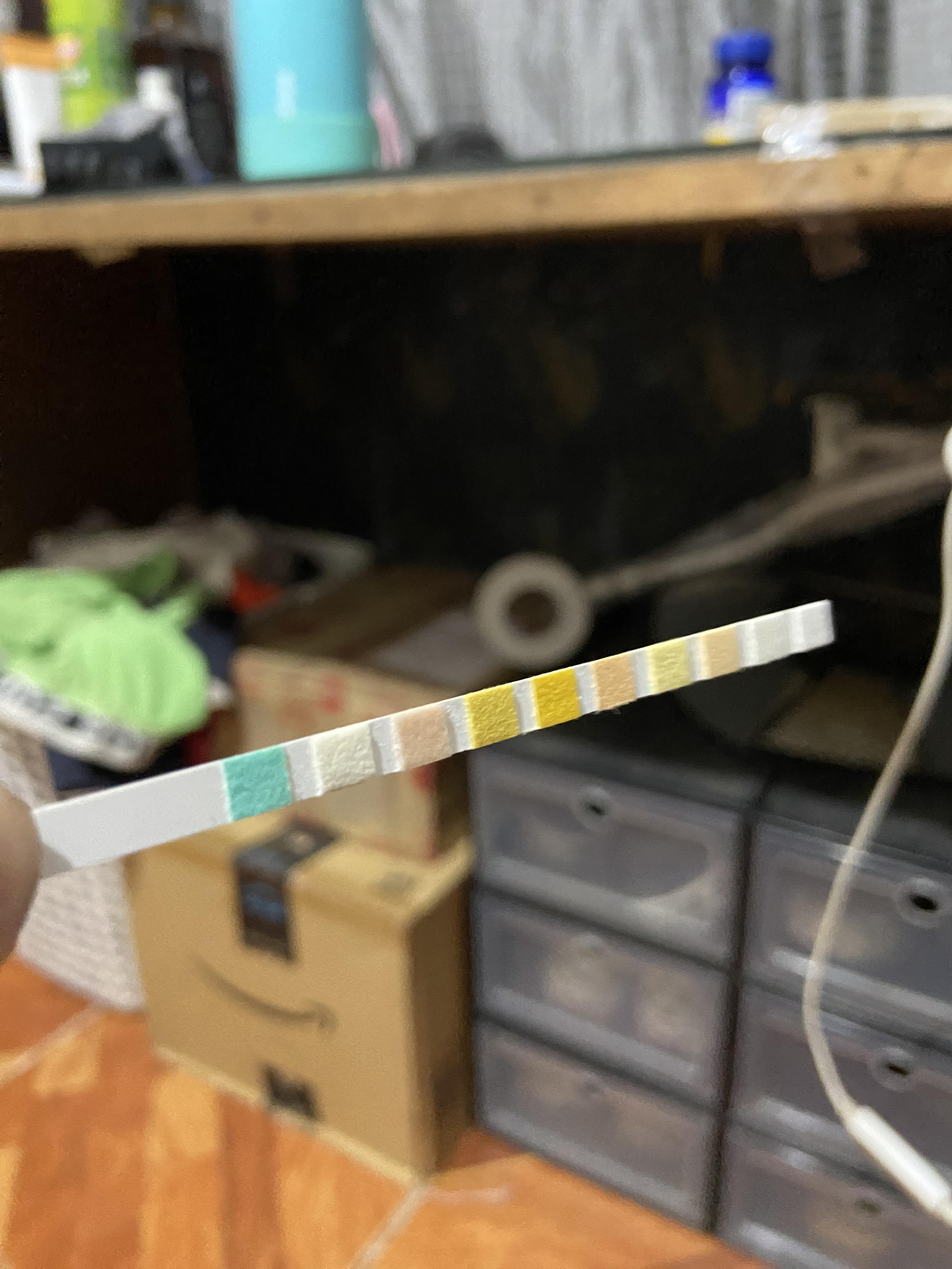Bilirubin: (325, 734, 366, 780)
Blood: (542, 678, 575, 720)
Glucose: (234, 761, 286, 802)
Ketone: (405, 716, 446, 758)
Leukocytes: (806, 607, 829, 643)
Nitrite: (760, 620, 788, 653)
Protein: (657, 647, 687, 685)
SpGravity: (475, 693, 511, 737)
Urobilinogen: (710, 633, 736, 671)
pH: (601, 662, 631, 702)
strip: (33, 600, 834, 879)
